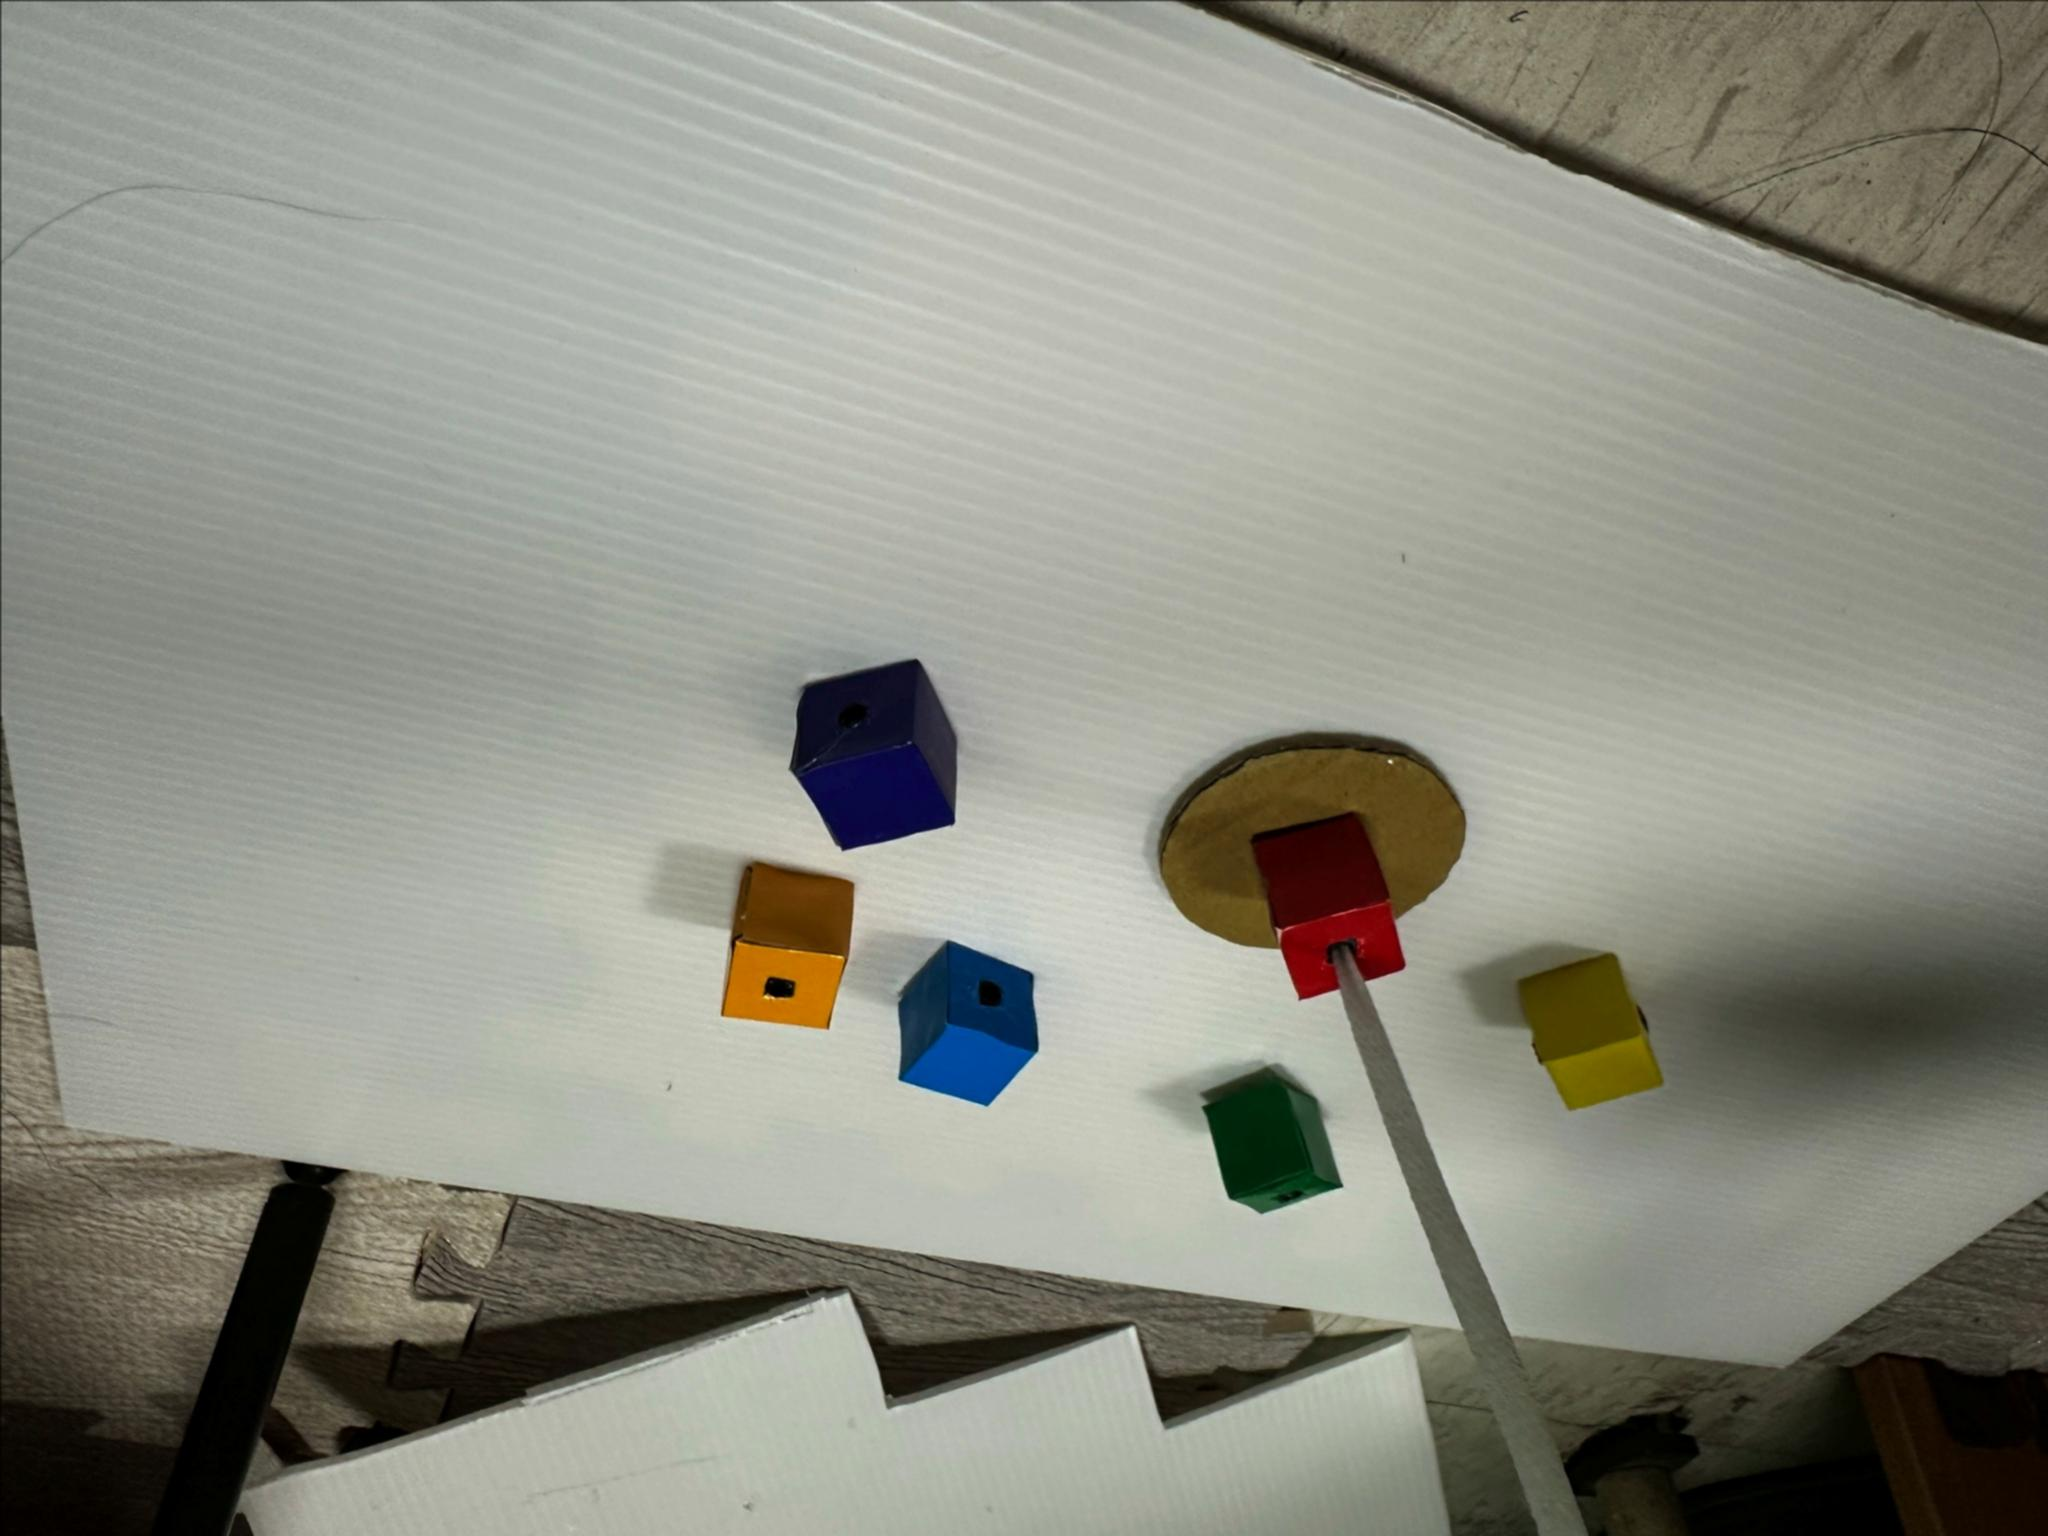base: (792, 660, 956, 849), (1251, 812, 1403, 997), (898, 942, 1037, 1105), (1519, 954, 1661, 1107), (722, 863, 853, 1028), (1203, 1078, 1342, 1212)
